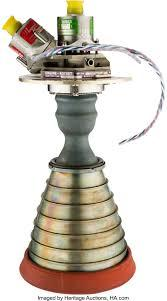thruster: (18, 141, 139, 295)
